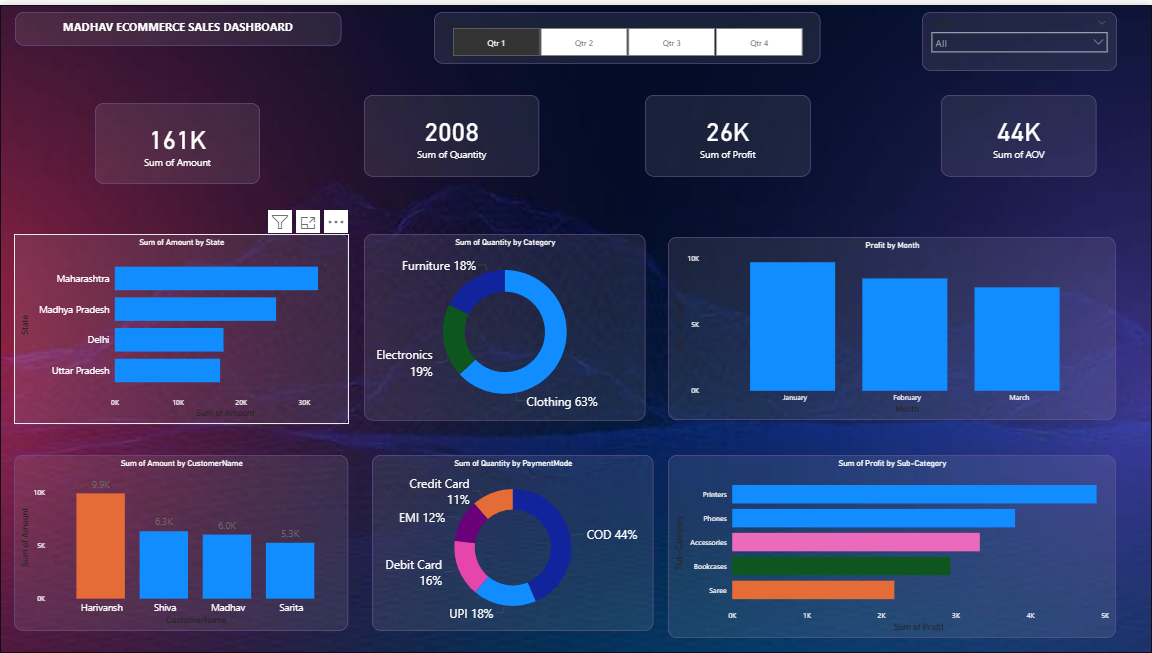

What the dashboard file says about the page in this screenshot:
{"tool":"powerbi","page":{"name":"Page 1","canvas":[1920,1080],"ordinal":0},"visuals":[{"type":"columnChart","title":" Profit by Month","fields":{"Category":["Orders.Order Date.Variation.Date Hierarchy.Month"],"Y":["Sum(Details.Profit)"]},"box":[1114.2,387.3,746.3,305.4],"z":0},{"type":"barChart","fields":{"Category":["Details.Sub-Category"],"Y":["Sum(Details.Profit)"]},"box":[1114.2,749.2,746.3,305.4],"z":1000},{"type":"donutChart","fields":{"Y":["Sum(Details.Quantity)"],"Category":["Details.PaymentMode"]},"box":[619.6,749.2,469.2,293.4],"z":2000},{"type":"donutChart","fields":{"Category":["Details.Category"],"Y":["Sum(Details.Quantity)"]},"box":[606.2,381.3,469.2,311.3],"z":3000},{"type":"textbox","box":[24.4,11.5,543.6,56.1],"z":4000},{"type":"card","fields":{"Values":["Sum(Details.Amount)"]},"box":[158.2,162.5,274.7,135.2],"z":5000},{"type":"card","fields":{"Values":["Sum(Details.Profit)"]},"box":[1075.4,150.4,275.6,135.5],"z":6000},{"type":"card","fields":{"Values":["Sum(Details.Quantity)"]},"box":[606.2,150.4,291.9,135.5],"z":7000},{"type":"card","fields":{"Values":["Sum(Details.AOV)"]},"box":[1568.5,150.4,259.2,135.5],"z":8000},{"type":"barChart","fields":{"Category":["Orders.State"],"Y":["Sum(Details.Amount)"]},"box":[23.8,381.3,557.1,317.3],"z":9000},{"type":"columnChart","fields":{"Category":["Orders.CustomerName"],"Y":["Sum(Details.Amount)"]},"box":[23.8,749.2,557.1,293.4],"z":10000},{"type":"slicer","fields":{"Values":["Orders.Order Date.Variation.Date Hierarchy.Quarter"]},"box":[723.4,11.5,644.3,86.3],"z":11000},{"type":"slicer","fields":{"Values":["Orders.State"]},"box":[1536,11.5,325,97.8],"z":12000}]}

Visuals, with their boxes in screenshot pixels (x1, y1, x2, y2), scaled from the page's 1920x1080 canvas onto the 1152x653 screenshot:
" Profit by Month" columnChart: [x1=669, y1=234, x2=1116, y2=419]
barChart - Details.Sub-Category x Sum(Details.Profit): [x1=669, y1=453, x2=1116, y2=638]
donutChart - Sum(Details.Quantity) x Details.PaymentMode: [x1=372, y1=453, x2=653, y2=630]
donutChart - Details.Category x Sum(Details.Quantity): [x1=364, y1=231, x2=645, y2=419]
textbox: [x1=15, y1=7, x2=341, y2=41]
card - Sum(Details.Amount): [x1=95, y1=98, x2=260, y2=180]
card - Sum(Details.Profit): [x1=645, y1=91, x2=811, y2=173]
card - Sum(Details.Quantity): [x1=364, y1=91, x2=539, y2=173]
card - Sum(Details.AOV): [x1=941, y1=91, x2=1097, y2=173]
barChart - Orders.State x Sum(Details.Amount): [x1=14, y1=231, x2=349, y2=422]
columnChart - Orders.CustomerName x Sum(Details.Amount): [x1=14, y1=453, x2=349, y2=630]
slicer - Orders.Order Date.Variation.Date Hierarchy.Quarter: [x1=434, y1=7, x2=821, y2=59]
slicer - Orders.State: [x1=922, y1=7, x2=1117, y2=66]
